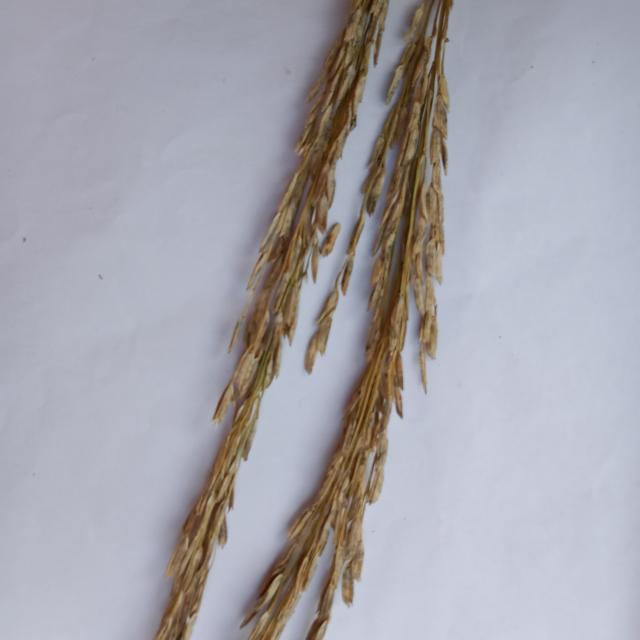Neck_Blast: (164, 0, 384, 606), (247, 0, 450, 631)
